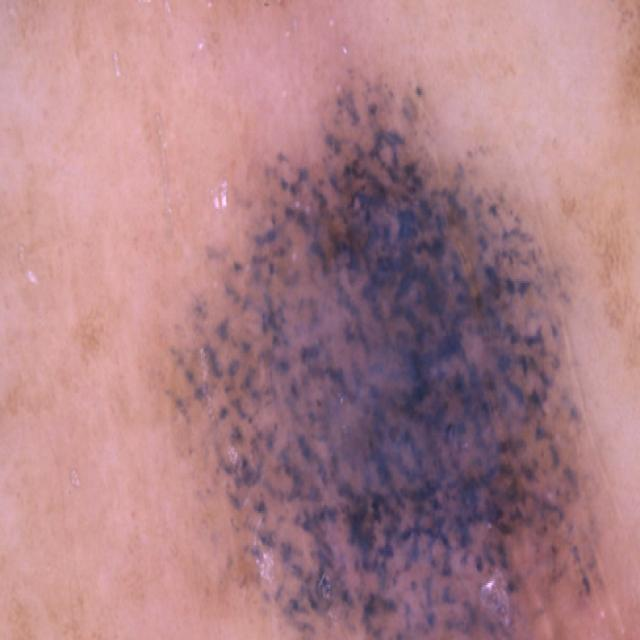Keratosis: (137, 53, 628, 640)
